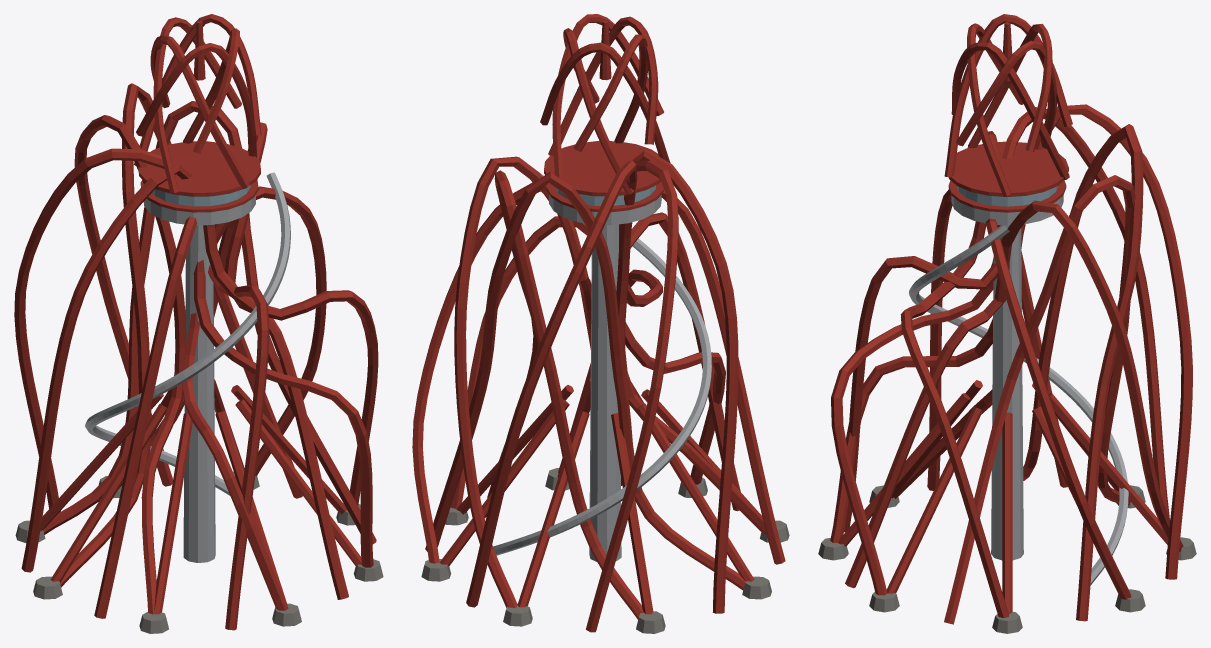
File: orbit.glb
3 views of the same model, side by side, from view 1: azimuth 30°, elevation 25°; view 2: azimuth 150°, elevation 25°; view 3: azimuth 270°, elevation 25° (orthographic).
Visible parts, largest first — view 1: orbit; view 2: orbit; view 3: orbit.
Part boxes in pixels (x1,y1,x2,y2): orbit: [14, 14, 383, 633]; orbit: [412, 14, 789, 633]; orbit: [818, 14, 1196, 633].
Size of the model in its own units: 74 by 115 by 74.
